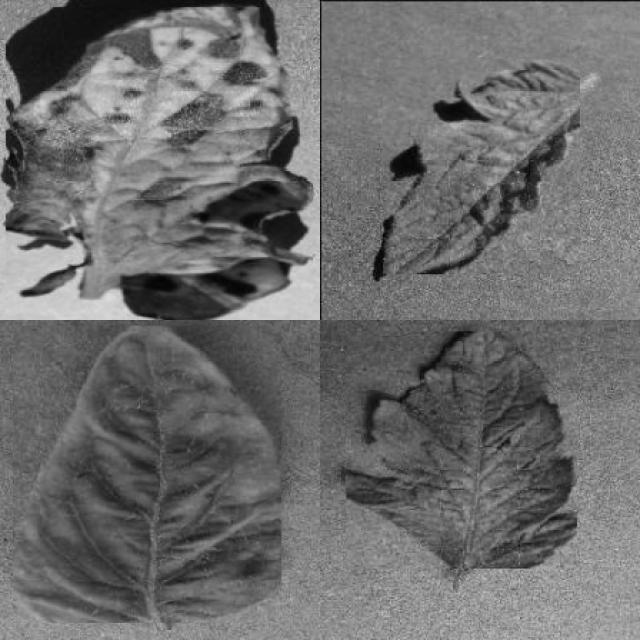Early Blight: (6, 7, 313, 320)
Mosaic Virus: (346, 332, 577, 568), (383, 59, 580, 274)
Yellow Leaf Curl Virus: (14, 326, 282, 624)
